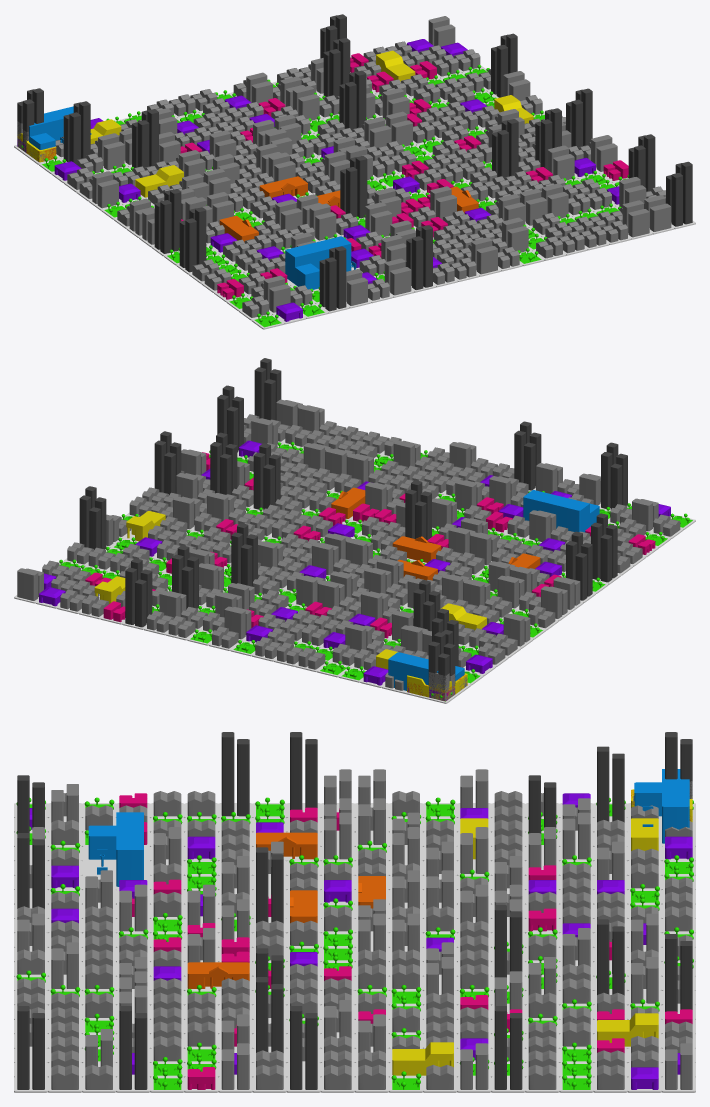
3 renders of one model, top to bottom at view 1: azimuth 30°, elevation 25°; view 2: azimuth 150°, elevation 25°; view 3: azimuth 270°, elevation 25°, orthographic. The views are drawn at different scales.
Parts seen in each view (by area): view 1: ABloc_1x1 (×39), Work_1x1 (×17), School_2x3 (×2), APlex_1x1 (×6), SCenter_1x2 (×2), SCenter_2x1, RStore_2x1, RStore_1x2; view 2: ABloc_1x1 (×42), Work_1x1 (×17), School_2x3 (×2), APlex_1x1 (×3), SCenter_1x2 (×2), RStore_2x1, RStore_1x2, SCenter_2x1; view 3: ABloc_1x1 (×46), APlex_1x1 (×45), Work_1x1 (×17), School_2x3 (×2), GStore_1x1 (×5), SCenter_1x2 (×2), RStore_1x2 (×2), Park_1x1 (×4), RStore_2x1 (×2), SCenter_2x1 (×2), BStore_1x1 (×2).
Part boxes in pixels (x1,y1,x2,y2): ABloc_1x1 (×39): (89,16,674,314); Work_1x1 (×17): (17,14,695,313); School_2x3 (×2): (14,106,356,292); APlex_1x1 (×6): (239,220,630,320); SCenter_1x2 (×2): (376,50,533,123); SCenter_2x1: (135,165,183,198); RStore_2x1: (259,176,310,198); RStore_1x2: (219,215,258,242); ABloc_1x1 (×42): (14,399,658,702); Work_1x1 (×17): (79,358,627,700); School_2x3 (×2): (382,490,599,703); APlex_1x1 (×3): (165,616,328,672); SCenter_1x2 (×2): (94,511,165,603); RStore_2x1: (392,536,441,563); RStore_1x2: (331,487,365,520); SCenter_2x1: (441,603,486,630); ABloc_1x1 (×46): (14,769,695,1092); APlex_1x1 (×45): (14,791,695,1092); Work_1x1 (×17): (14,732,695,1092); School_2x3 (×2): (82,769,695,889); GStore_1x1 (×5): (48,836,695,1092); SCenter_1x2 (×2): (389,1013,661,1077); RStore_1x2 (×2): (184,832,320,990); Park_1x1 (×4): (150,855,593,1092); RStore_2x1 (×2): (286,876,388,933); SCenter_2x1 (×2): (457,818,661,860); BStore_1x1 (×2): (184,908,559,1092).
Size of the model in its own units: 20 by 2.6 by 20.
